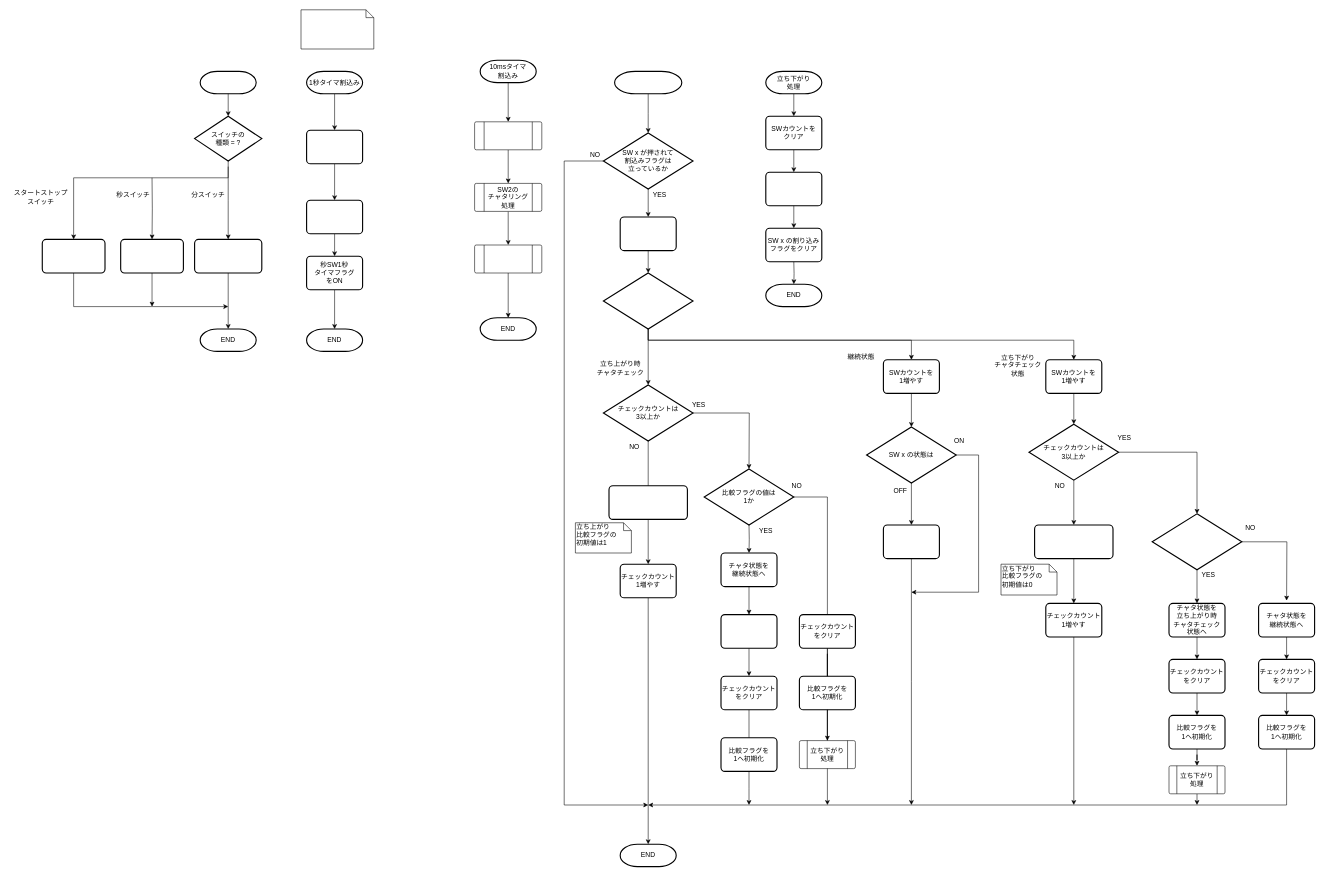
Some shapes in this 1324 by 877 pixel diagram are drawn without their labels. Each missing label, with the centre of its shape:
"IOC割込み" belongs at pixel 227 82.
"SW x のポート値を読む" belongs at pixel 647 233.
"SW x の状態を ONへ" belongs at pixel 748 631.
"SW x の状態をOFF" belongs at pixel 793 188.
"SW1の チャタリング 処理" belongs at pixel 508 135.
"SW3の チャタリング 処理" belongs at pixel 508 258.
"SWのポートの値と 立ち上がり比較フラグを 論理積する" belongs at pixel 648 502.
"SWのポートの値と 立ち下がり比較フラグを 論理和する" belongs at pixel 1073 541.
"カウント時間を 1減少させる" belongs at pixel 334 146.
"スタートストップ スイッチフラグを 立てる" belongs at pixel 73 256.
"チャタリング処理" belongs at pixel 648 82.
"チャタ状態は" belongs at pixel 648 300.
"チャタ状態を 立ち下がりチャタチェック状態へ" belongs at pixel 911 541.
"分SW1秒 タイマフラグ をON" belongs at pixel 334 216.
"分スイッチフラグ を立てる" belongs at pixel 228 256.
"割込みの種類 ・状態変化割込み ・1秒タイマ割込み ・10msタイマ割込み" belongs at pixel 337 29.
"比較フラグの値は 0か" belongs at pixel 1196 541.
"秒スイッチフラグ を立てる" belongs at pixel 152 256.
